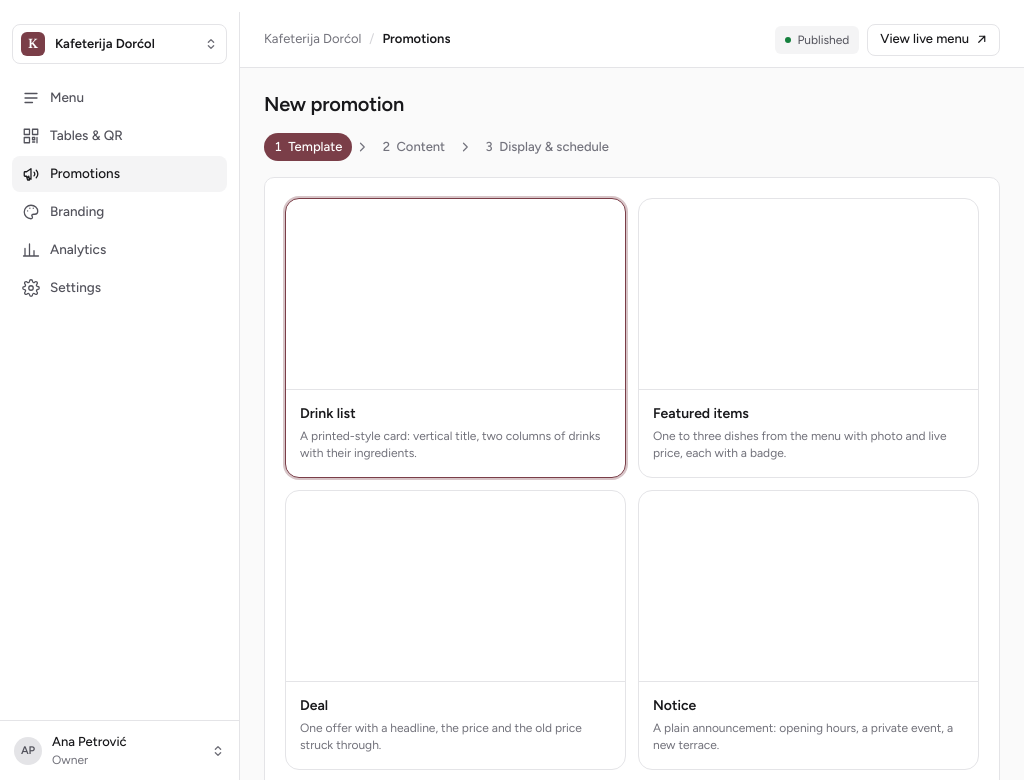
Test: promotions (CMS) › refuses to save an empty drink list and points at the problem
Click the radio button labelled "Drink list": (456, 433) [285,198,626,478]
(page scrolled)
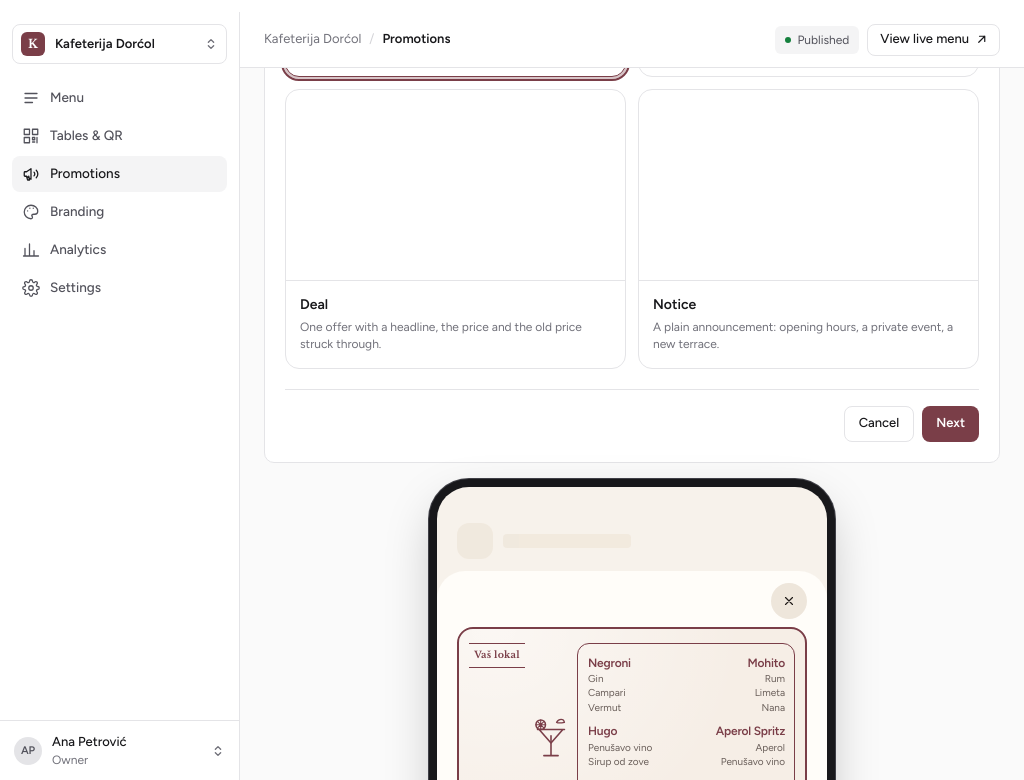
Click the button "Next": (951, 424) [922,406,979,442]
(page scrolled)
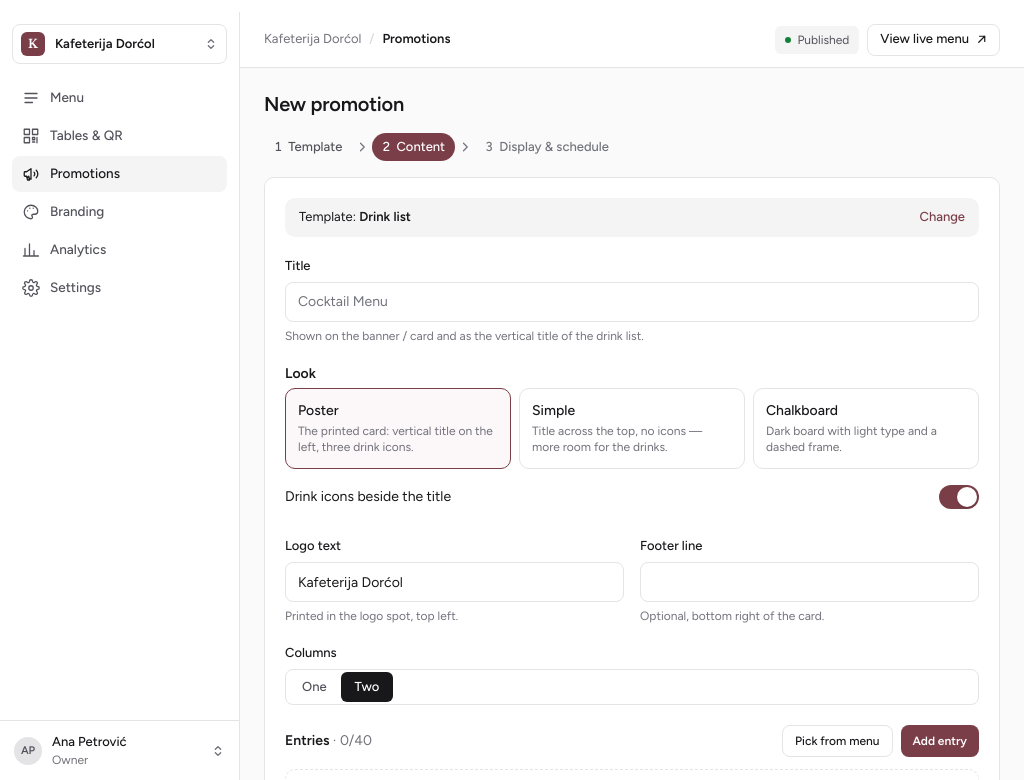
In the field labelled "Title": (632, 302) [285,282,979,322], type "Cocktails"
(page scrolled)
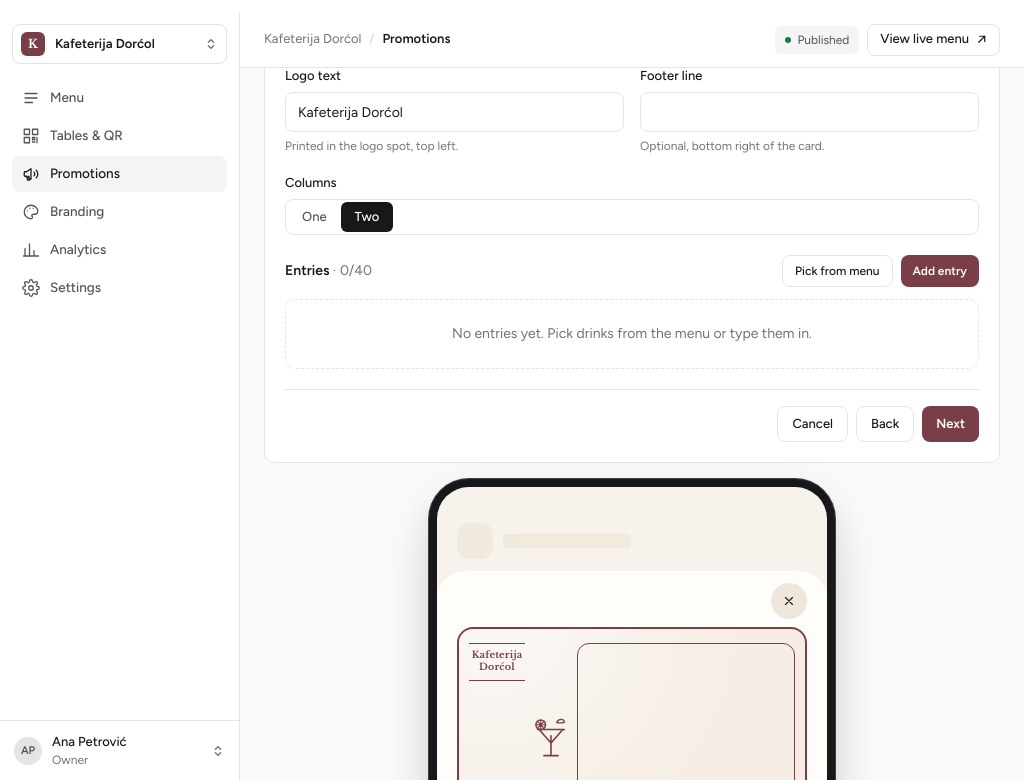
Click the button "Next": (951, 424) [922,406,979,442]
(page scrolled)
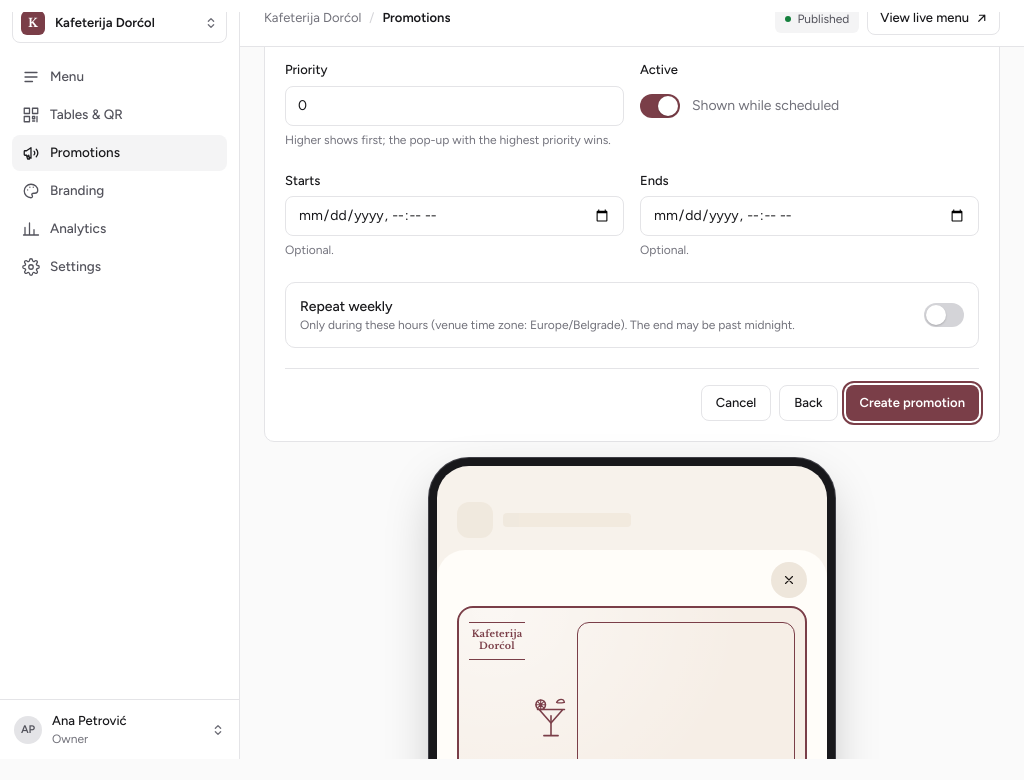
Click the button "Create promotion": (912, 403) [846,385,979,421]
(page scrolled)
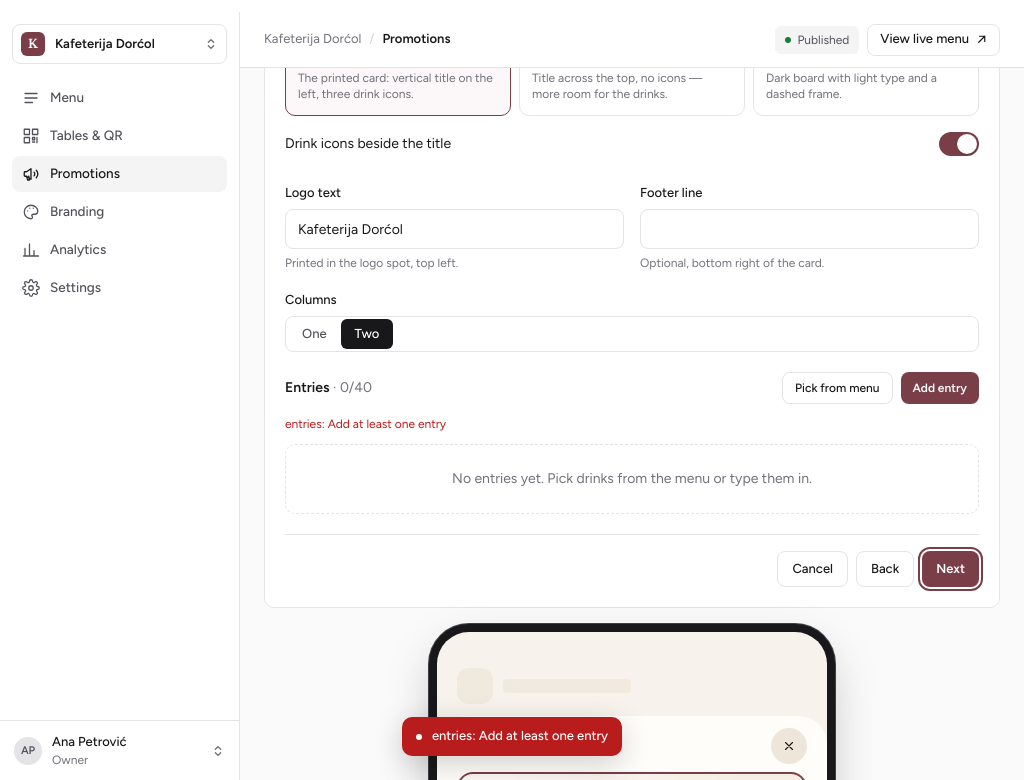
Expected: the text "entries: Add at least one entry" is shown, [285,417,446,431]
